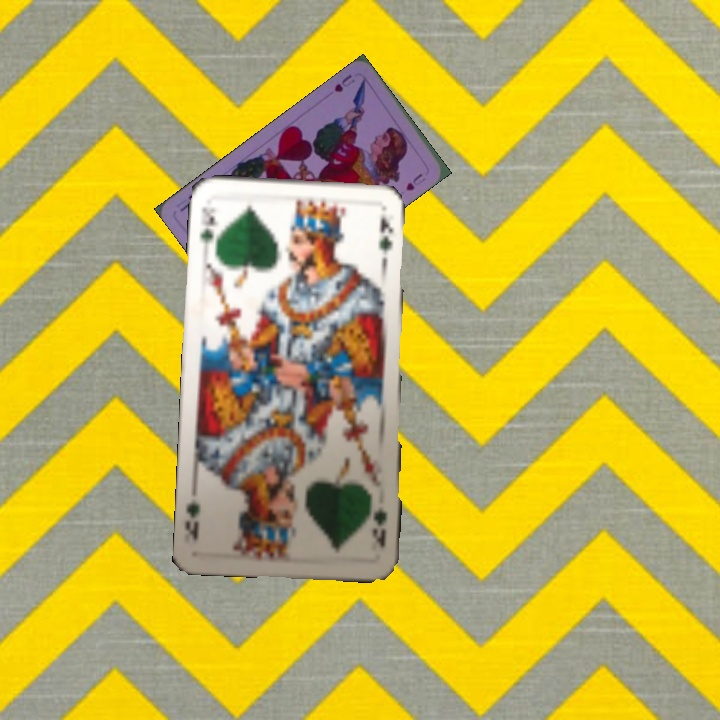GK: (196, 203, 221, 247), (368, 502, 390, 551)
HU: (330, 70, 357, 95)
